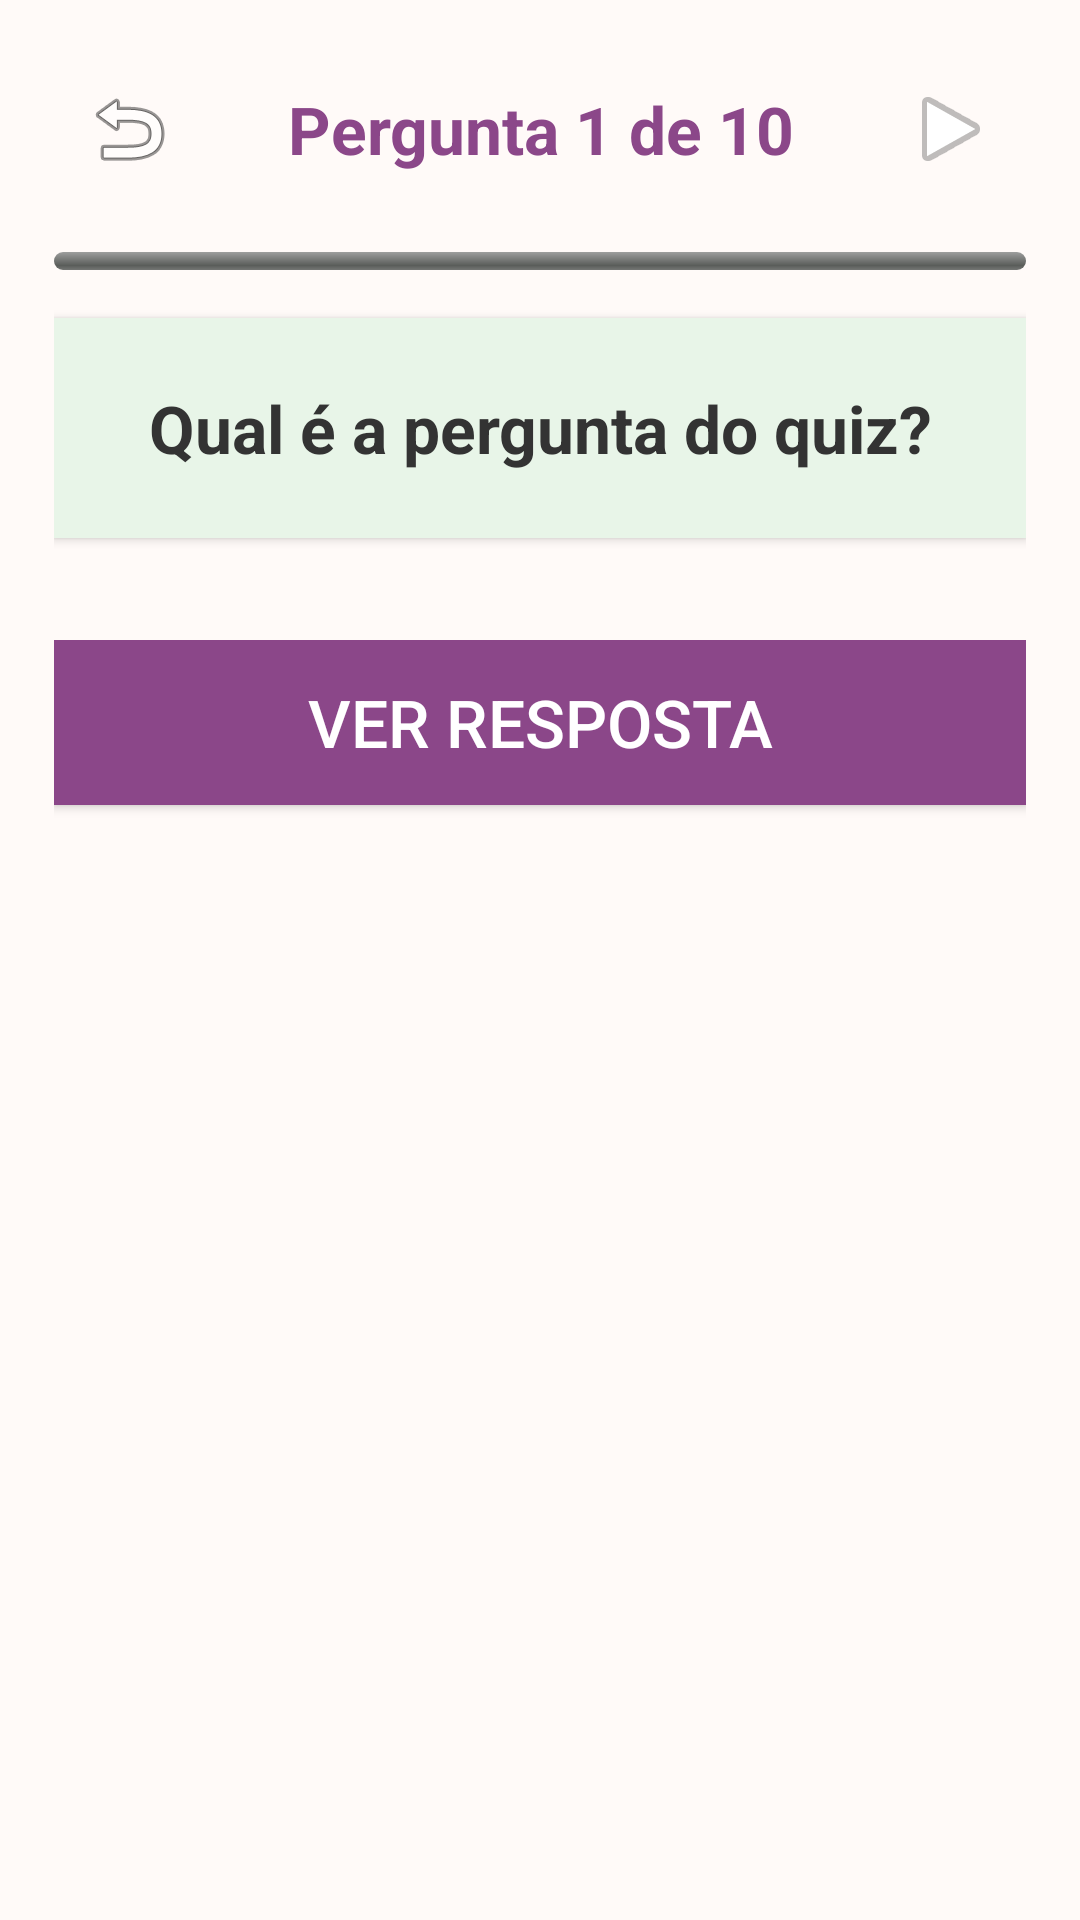

Point at icon controls on the screen. Image size 1080×1920, points as point (x, y).
Ouvir pergunta: point (951, 129)
Voltar: point (130, 129)
